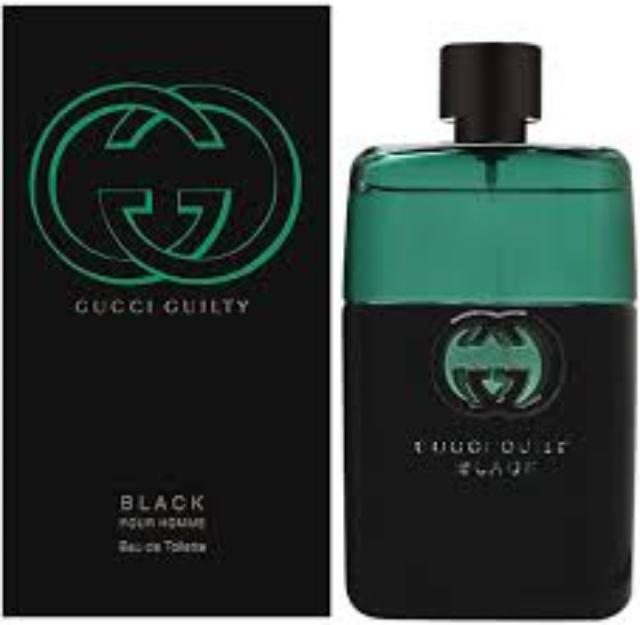Gucci: (19, 73, 305, 287), (428, 304, 580, 428), (409, 434, 586, 462), (69, 296, 254, 322)
